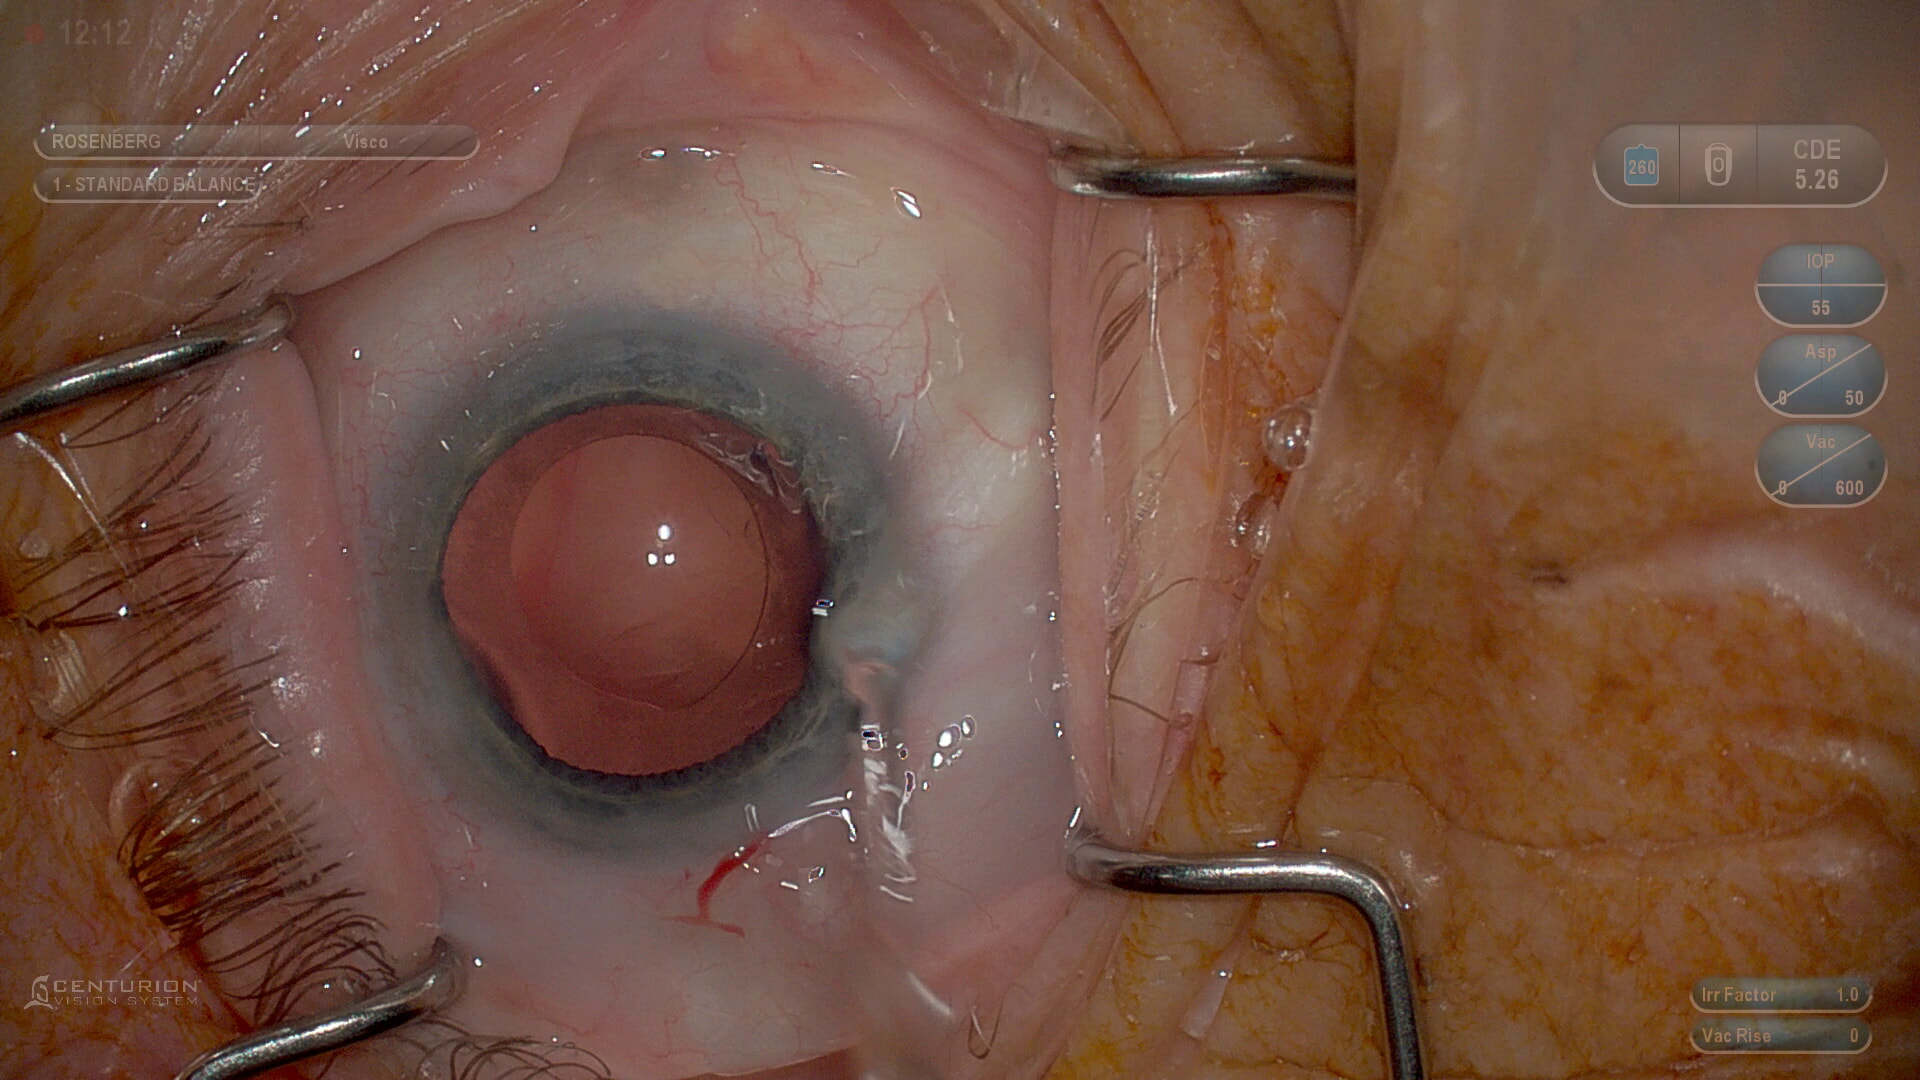iris: (398, 334, 877, 843)
pupil: (444, 399, 822, 772)
